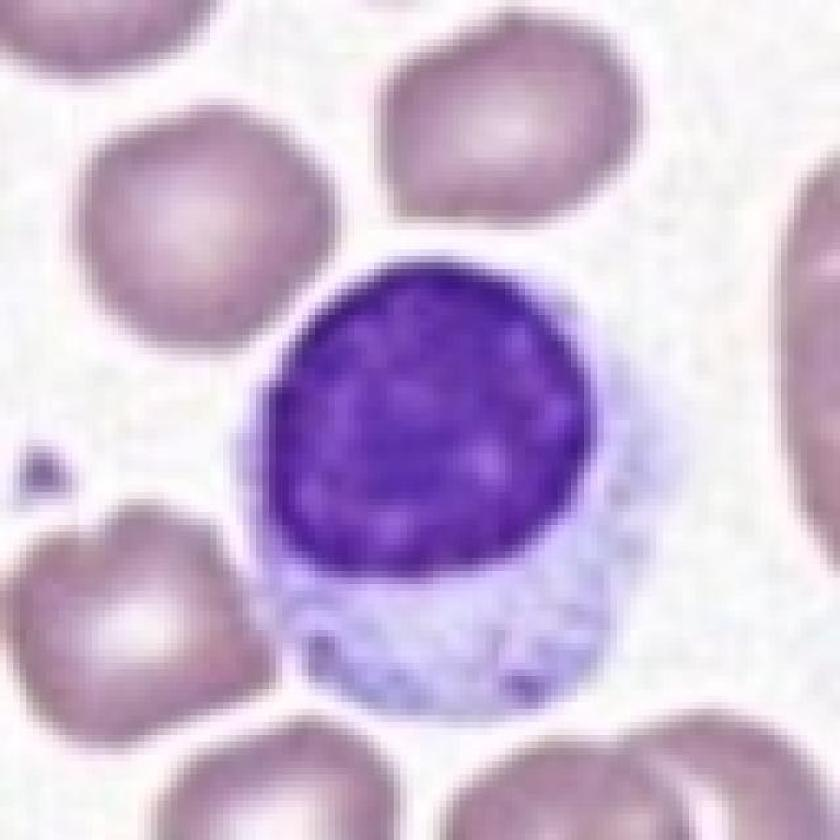lymphocyte: (222, 244, 694, 729)
